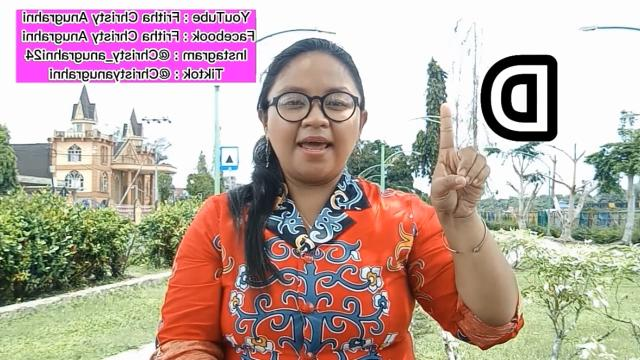D: (428, 103, 492, 222)
